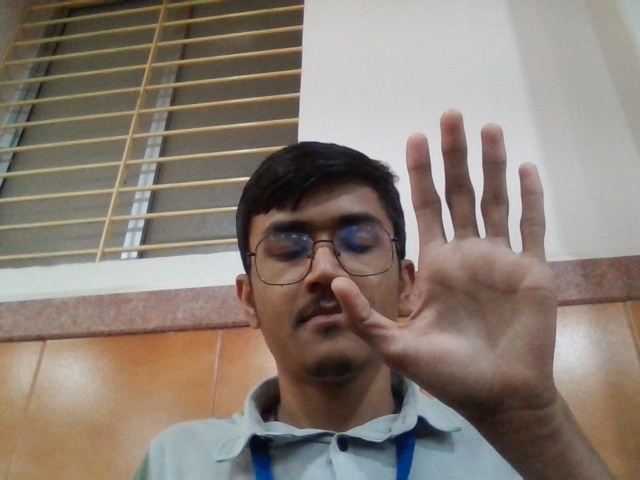Hello: (329, 103, 579, 418)
